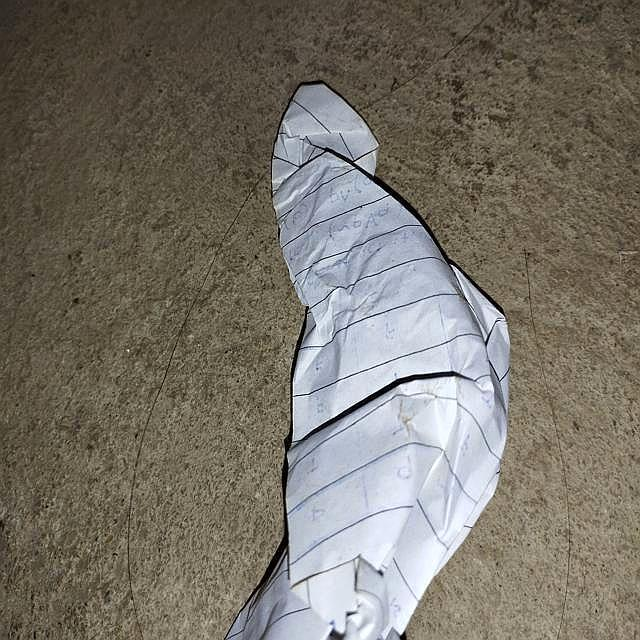Biodegradable: (241, 87, 509, 640)
